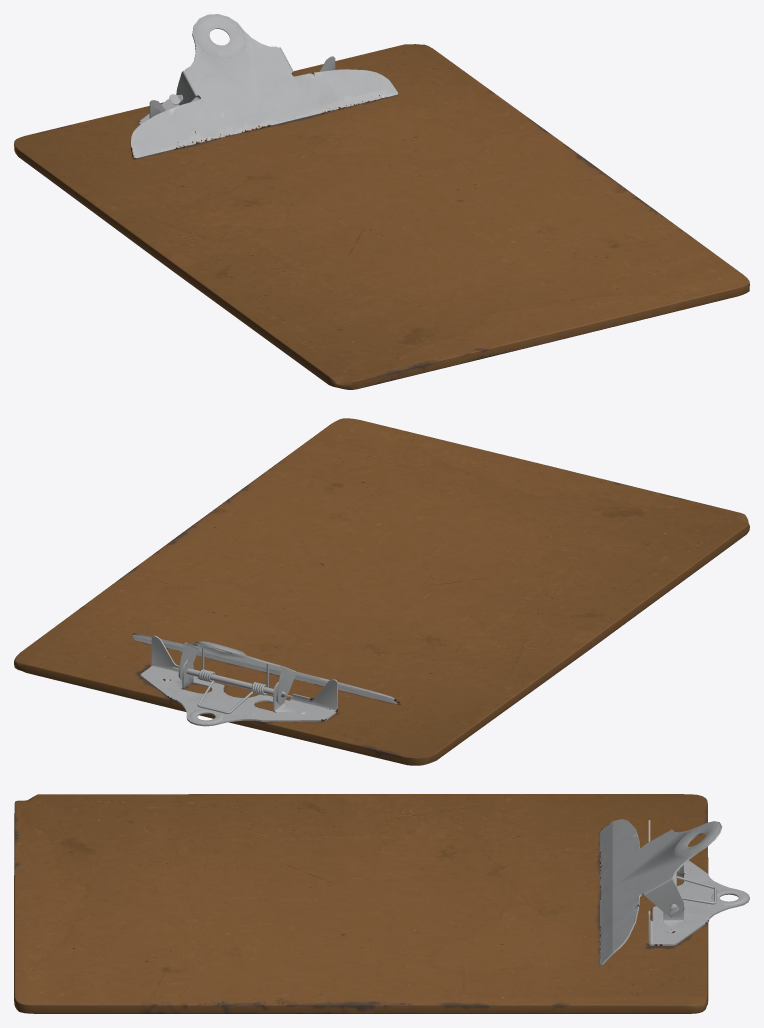
The model's file is clipboard.glb.
3 renders of one model, top to bottom at view 1: azimuth 30°, elevation 25°; view 2: azimuth 150°, elevation 25°; view 3: azimuth 270°, elevation 25°, orthographic. The views are drawn at different scales.
Parts seen in each view (by area): view 1: clipboard; view 2: clipboard; view 3: clipboard.
Part boxes in pixels (box(x1,y1,x2,y2)): clipboard: box(14, 14, 749, 389); clipboard: box(14, 418, 749, 765); clipboard: box(14, 794, 749, 1013).
Bounding box in the file's own units: 0.2286 × 0.042 × 0.3366.
Materials: 1 (1 with a texture image).
